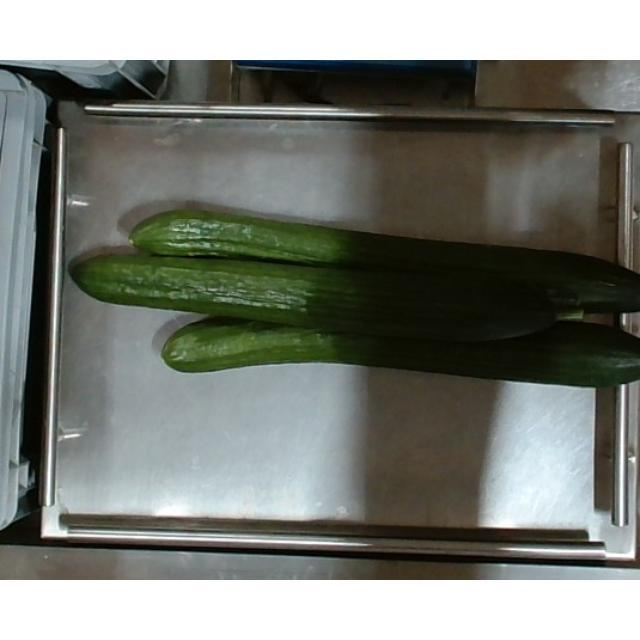cucumber: (132, 205, 640, 312), (162, 317, 640, 388), (70, 256, 580, 322)
